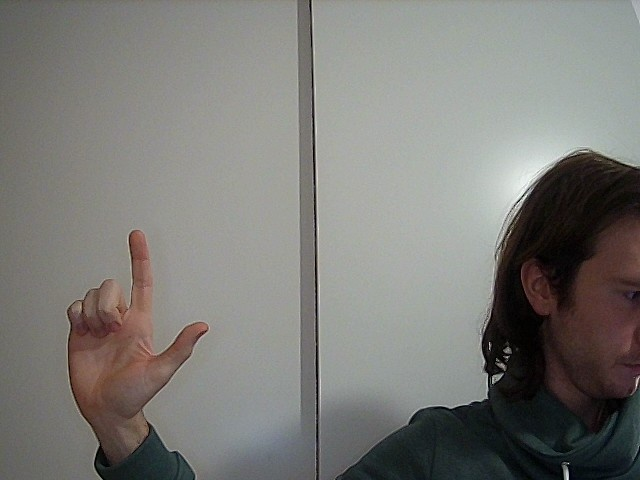l: (32, 221, 246, 418)
